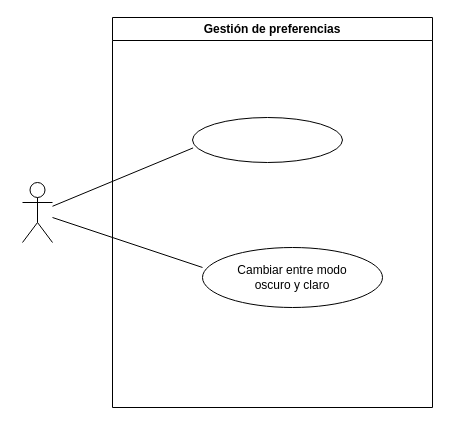
Image size: 450x425. Some labels were removed from this diagram. Each missing label, with the box of its shape:
Cambiar de idioma: (192, 116, 342, 162)
Usuario: (22, 182, 52, 242)
